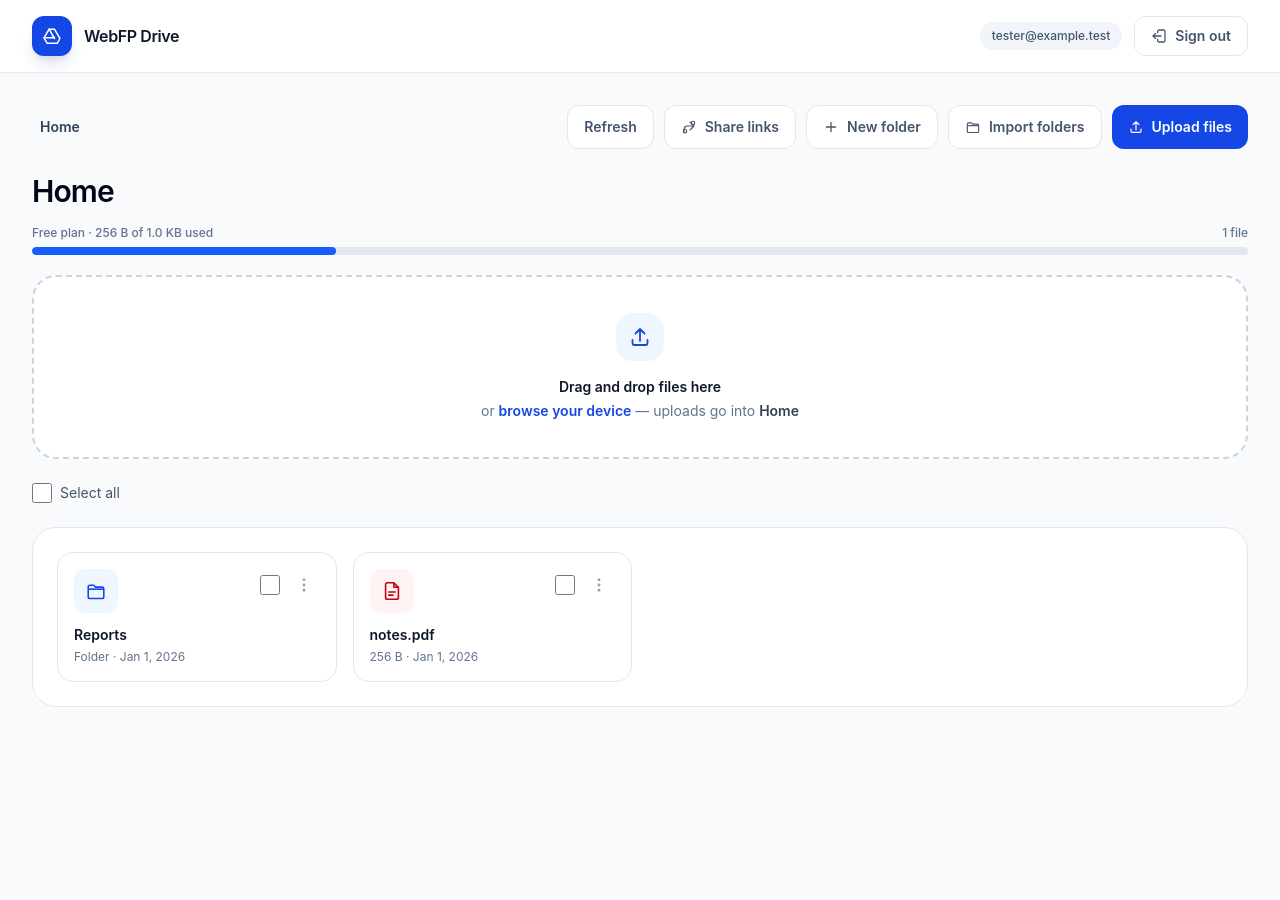
Test: drive actions › refreshes the current listing and keeps selected items
Check: the checkbox labelled "Select all" is shown, box [32,483,52,503]
Click the checkbox named "Select file notes.pdf".
click(565, 585)  # box [555,575,575,595]
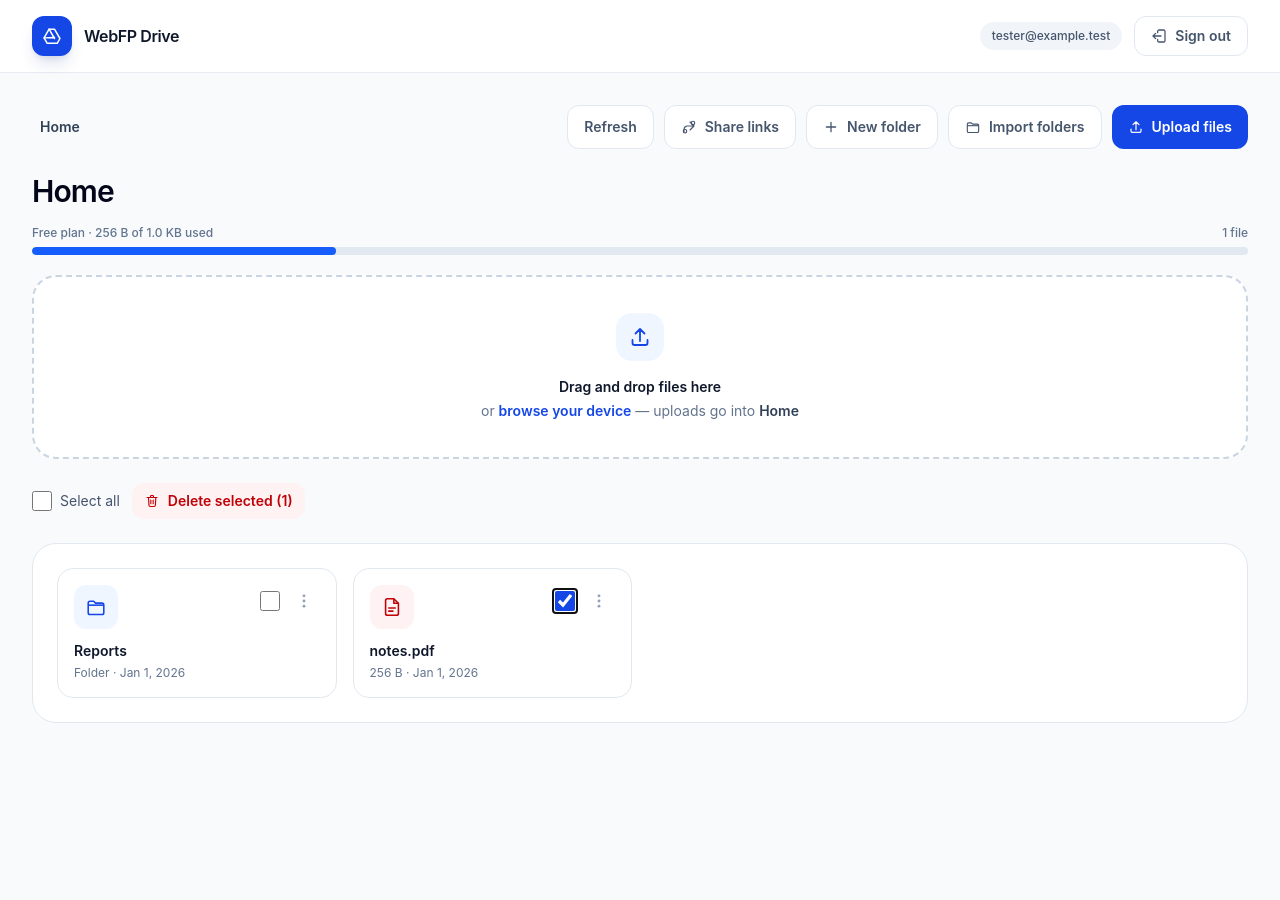
Click the button "Refresh".
click(611, 127)  # box [567,105,654,149]
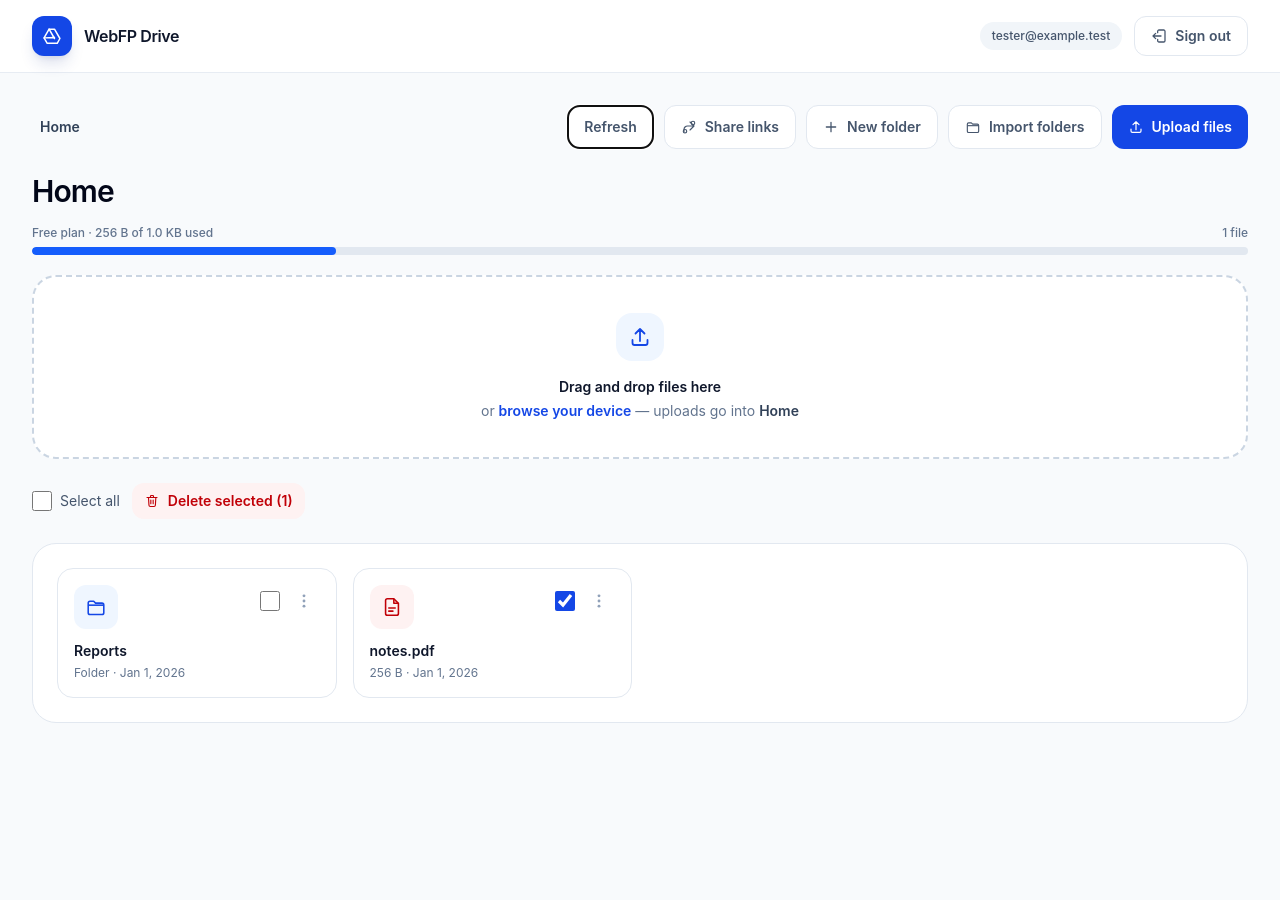
Check: the checkbox named "Select file notes.pdf" is checked, box [555,591,575,611]
